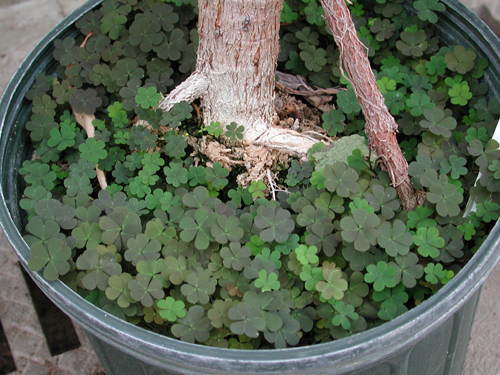oxalis: (34, 91, 442, 353), (355, 3, 482, 97), (58, 5, 195, 86), (453, 125, 500, 231)
